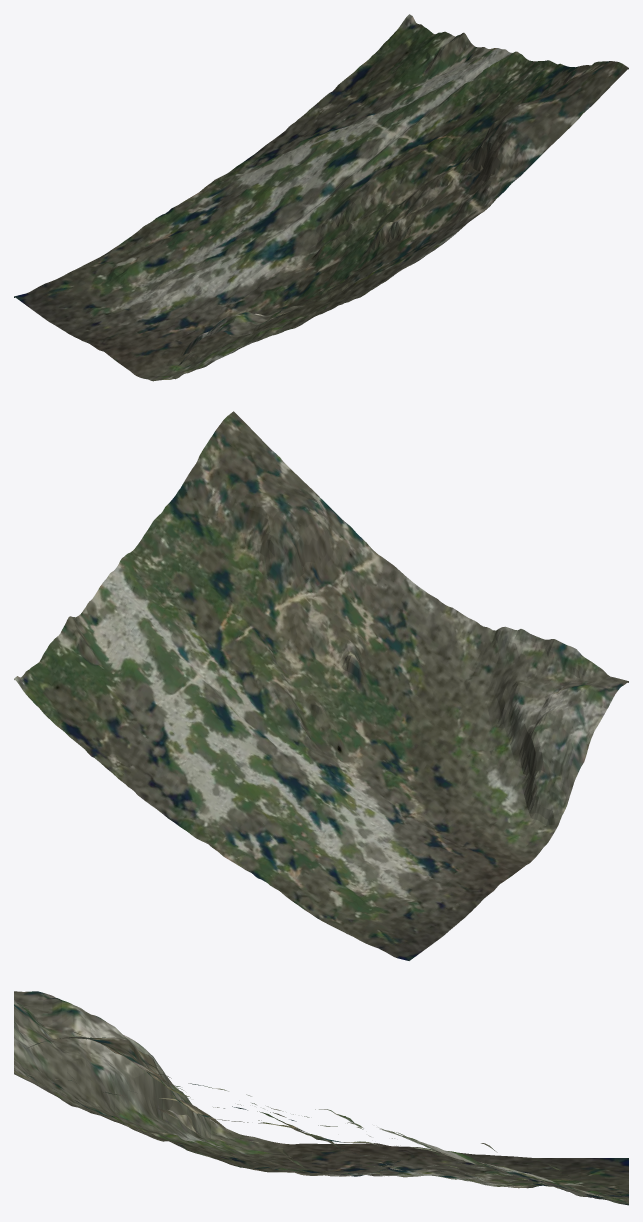
3 renders of one model, top to bottom at view 1: azimuth 30°, elevation 25°; view 2: azimuth 150°, elevation 25°; view 3: azimuth 270°, elevation 25°, orthographic. The views are drawn at different scales.
Bounding box in the file's own units: 250 × 178 × 241.
1 material, 1 textured.
